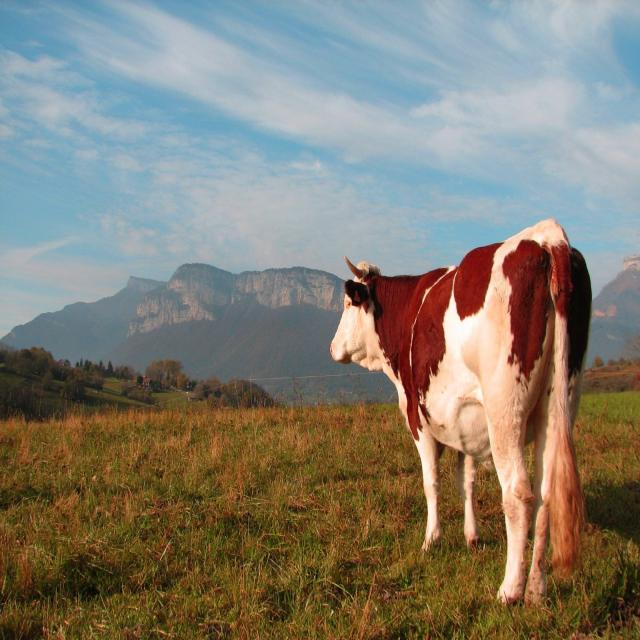cow: (330, 220, 591, 603)
